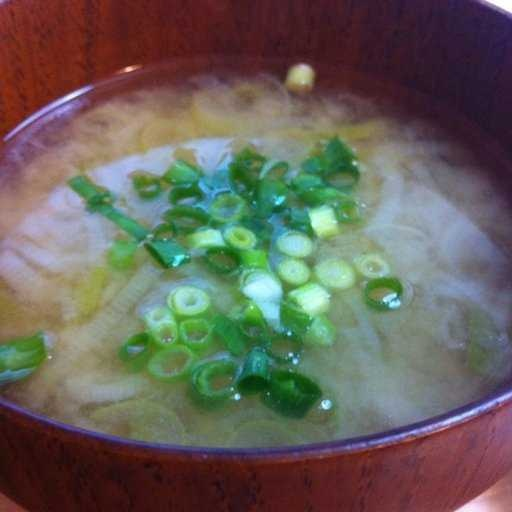soup: (5, 71, 512, 467)
